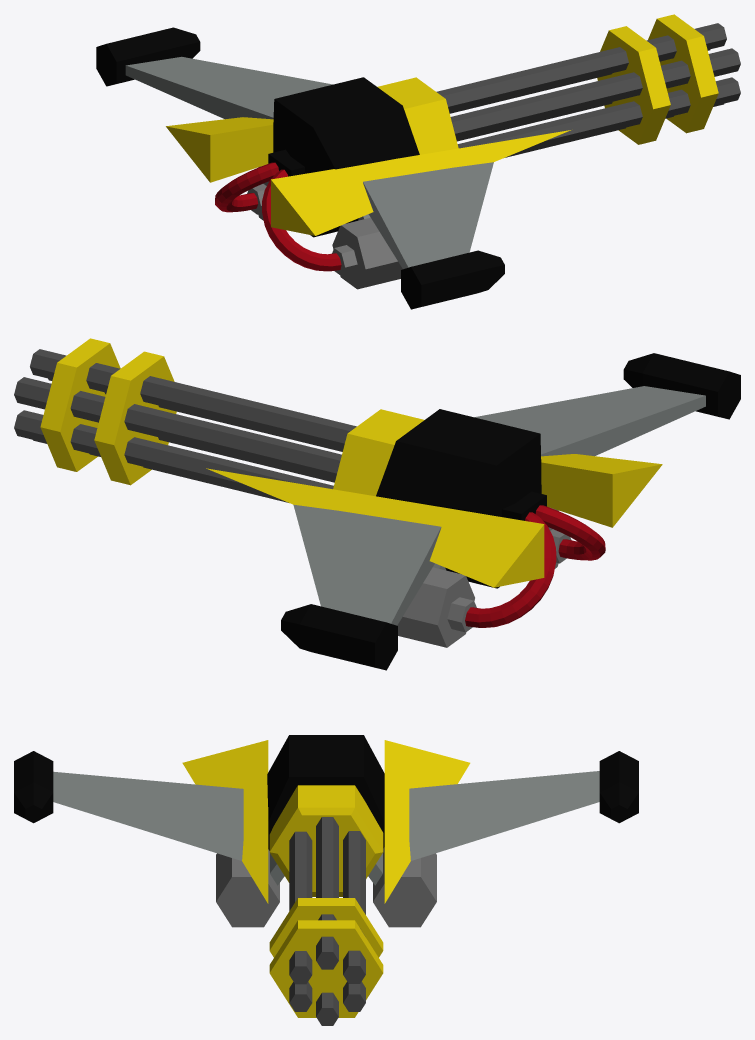
The model's file is MinigunDrone.fbx.
3 renders of one model, top to bottom at view 1: azimuth 30°, elevation 25°; view 2: azimuth 150°, elevation 25°; view 3: azimuth 270°, elevation 25°, orthographic. The views are drawn at different scales.
Parts seen in each view (by area): view 1: Wing, MiniGun, Body; view 2: Wing, MiniGun, Body; view 3: Wing, MiniGun, Body.
Part boxes in pixels (<box>): Wing: <box>96,27,570,309</box>; MiniGun: <box>377,14,740,157</box>; Body: <box>215,77,419,289</box>; Wing: <box>206,353,740,670</box>; MiniGun: <box>14,338,424,502</box>; Body: <box>376,409,605,647</box>; Wing: <box>14,740,638,903</box>; MiniGun: <box>269,785,383,1025</box>; Body: <box>216,735,436,927</box>.
Bounding box in the file's own units: 253 × 70.69 × 337.
